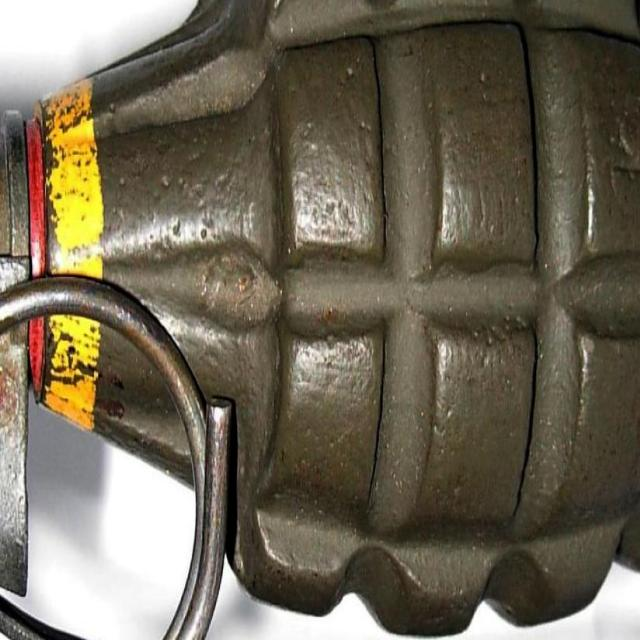grenade: (1, 2, 640, 640)
